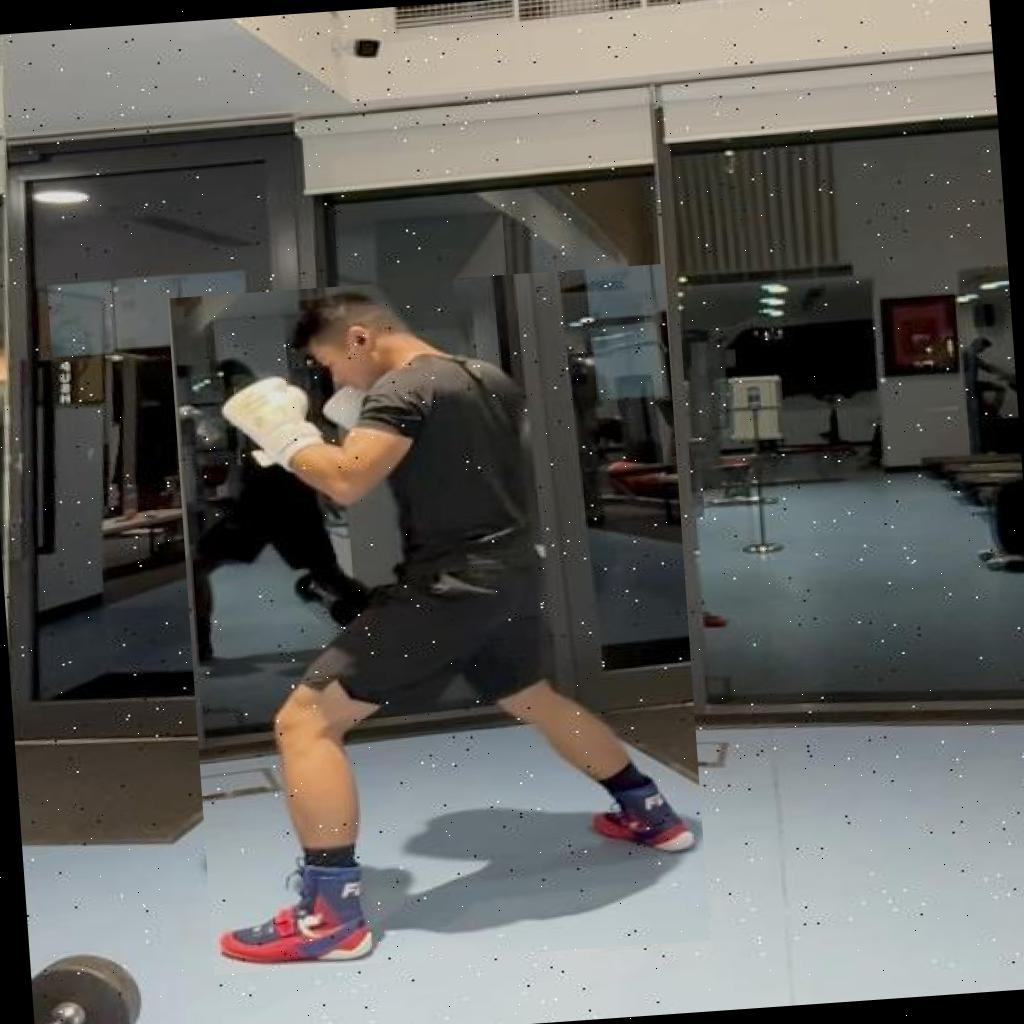no punch: (168, 264, 710, 975)
